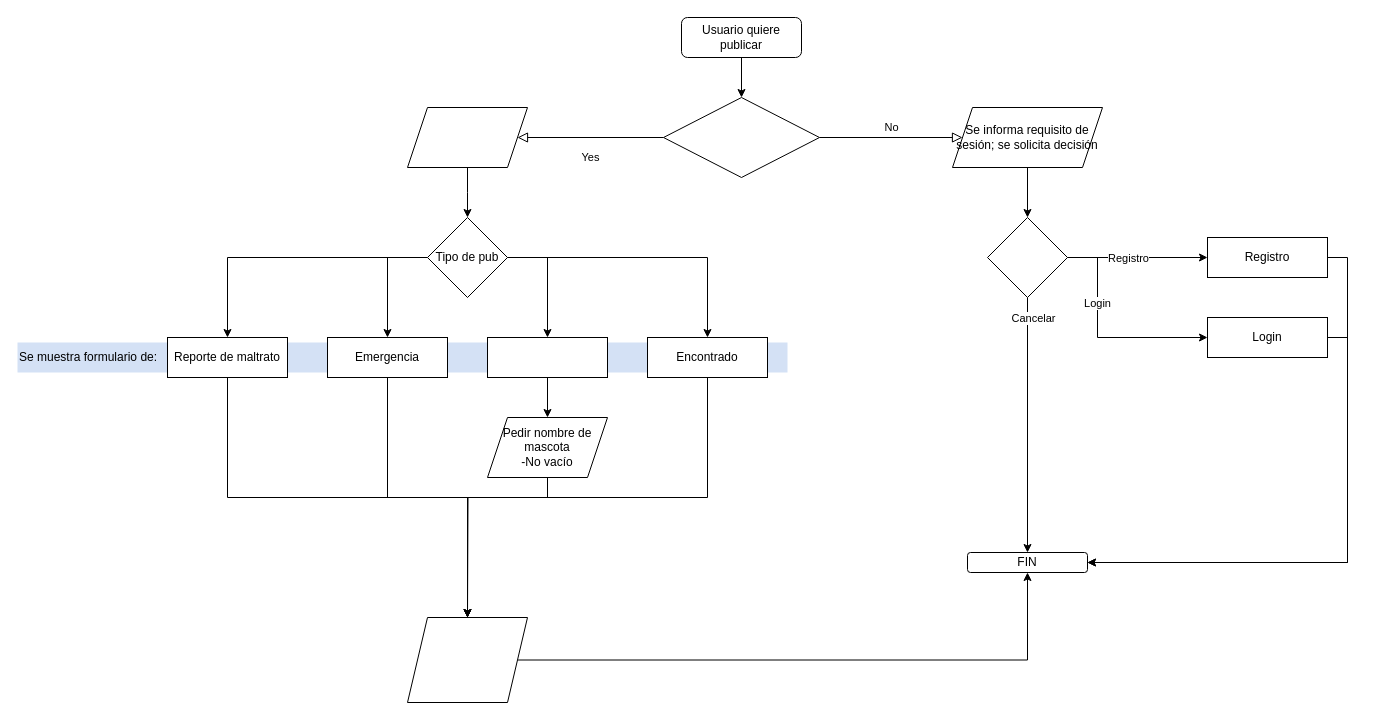
This 1373x720 diagram has some shape labels left out. The centre of each missing label's shape, as x and y in pixels:
"Formulario: Foto Tags Ubicación Descripción" goes at point (467, 659).
"Perdido" goes at point (547, 357).
"Solicitar tipo de publicación" goes at point (467, 137).
"¿Qué quiere hacer?" goes at point (1027, 257).
"¿Tiene el usuario una sesión válida?" goes at point (741, 137).
